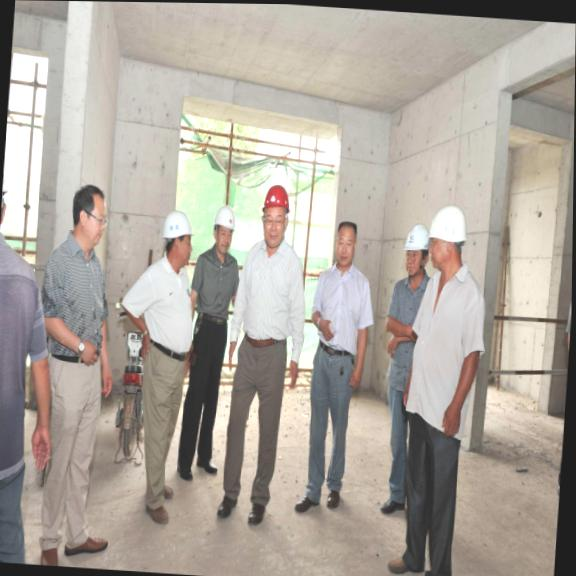no_safety_vest: (406, 262, 479, 442), (0, 231, 49, 473), (45, 243, 108, 354), (235, 240, 295, 352), (134, 265, 195, 369), (307, 263, 365, 359), (384, 285, 424, 392), (192, 251, 236, 324)
